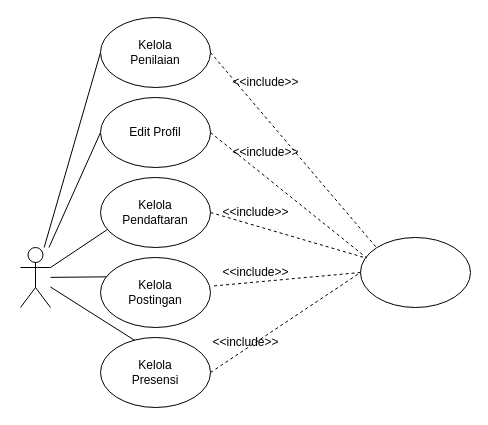
Image size: 488x425. Some labels were removed from this diagram. The centre of each missing label's shape, as x and y in pixels:
Login: the point at 415,272
Pelatih: the point at 35,277
